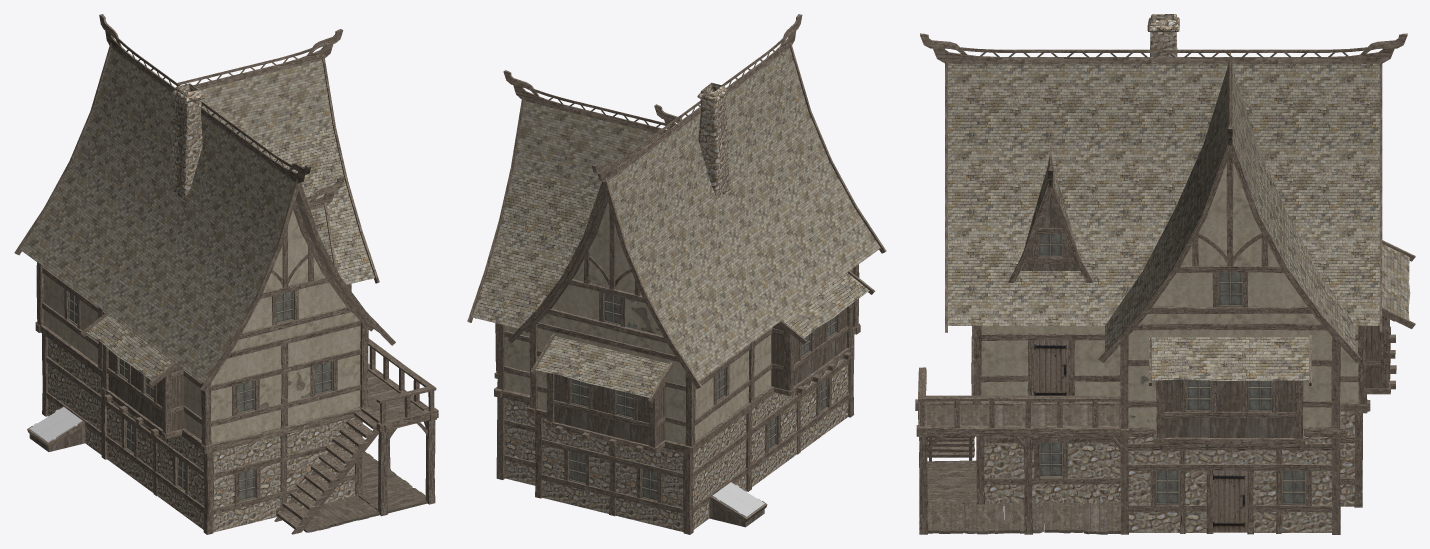
File: mw_type_2_cottage_03.FBX
3 views of the same model, side by side, from view 1: azimuth 30°, elevation 25°; view 2: azimuth 150°, elevation 25°; view 3: azimuth 270°, elevation 25° (orthographic). The views are drawn at different scales.
Visible parts, largest first — view 1: mw_type_2_cottage_building_03_roof, mw_type_2_cottage_building_03_wood, mw_type_2_cottage_building_03_stone, mw_type_2_cottage_building_03_wall, mw_type_2_cottage_building_03_wood_02, mw_type_2_cottage_building_03, mw_type_2_cottage_building_03_hatch; view 2: mw_type_2_cottage_building_03_roof, mw_type_2_cottage_building_03_wood, mw_type_2_cottage_building_03_stone, mw_type_2_cottage_building_03_wall, mw_type_2_cottage_building_03, mw_type_2_cottage_building_03_hatch; view 3: mw_type_2_cottage_building_03_roof, mw_type_2_cottage_building_03_wood, mw_type_2_cottage_building_03_wall, mw_type_2_cottage_building_03_stone, mw_type_2_cottage_building_03, mw_type_2_cottage_building_03_wood_02.
Boxes of the visible parts, <box> form: mw_type_2_cottage_building_03_roof: <box>20,48,378,383</box>; mw_type_2_cottage_building_03_wood: <box>14,14,438,534</box>; mw_type_2_cottage_building_03_stone: <box>48,83,355,532</box>; mw_type_2_cottage_building_03_wall: <box>43,210,360,443</box>; mw_type_2_cottage_building_03_wood_02: <box>290,452,427,532</box>; mw_type_2_cottage_building_03: <box>68,291,332,501</box>; mw_type_2_cottage_building_03_hatch: <box>29,407,82,442</box>; mw_type_2_cottage_building_03_roof: <box>472,48,880,397</box>; mw_type_2_cottage_building_03_wood: <box>467,14,886,534</box>; mw_type_2_cottage_building_03_stone: <box>505,82,848,532</box>; mw_type_2_cottage_building_03_wall: <box>505,202,771,444</box>; mw_type_2_cottage_building_03: <box>569,293,836,501</box>; mw_type_2_cottage_building_03_hatch: <box>712,482,764,517</box>; mw_type_2_cottage_building_03_roof: <box>948,63,1410,381</box>; mw_type_2_cottage_building_03_wood: <box>915,33,1415,534</box>; mw_type_2_cottage_building_03_wall: <box>981,163,1358,427</box>; mw_type_2_cottage_building_03_stone: <box>984,14,1354,532</box>; mw_type_2_cottage_building_03: <box>1034,234,1306,532</box>; mw_type_2_cottage_building_03_wood_02: <box>927,460,1120,534</box>.
Bounding box in the file's own units: 1488 × 1880 × 1949.
